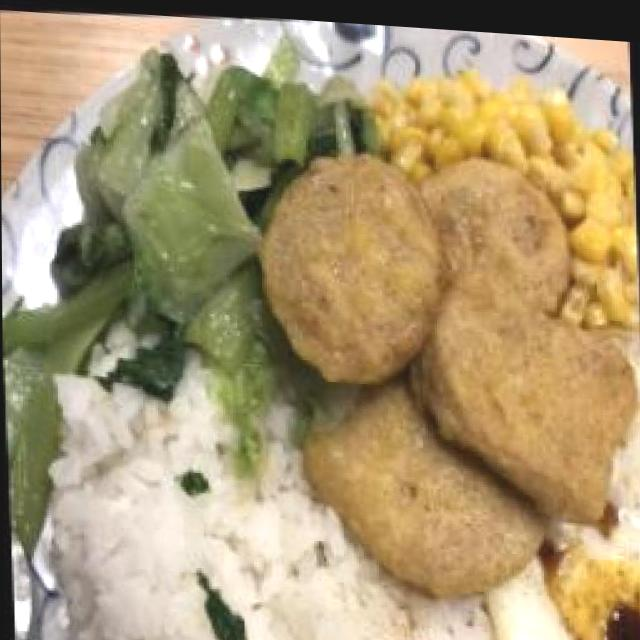chicken_nuggets: (261, 136, 640, 604)
rice: (53, 490, 359, 640)
